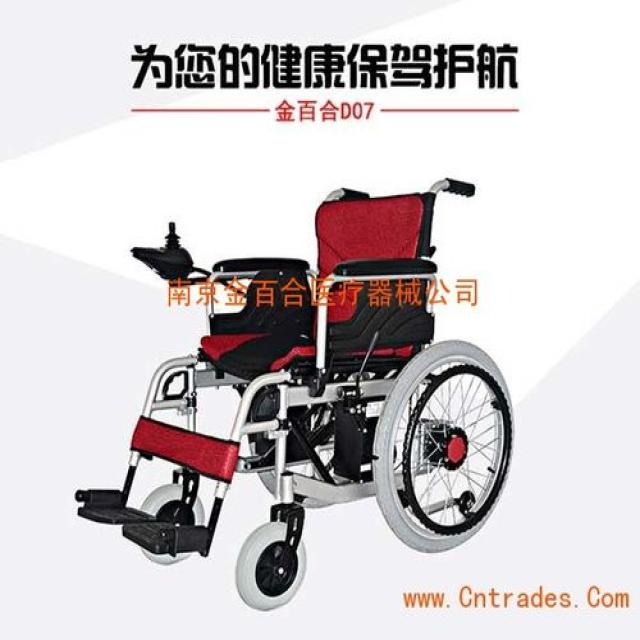wheelchairs: (65, 161, 521, 608)
